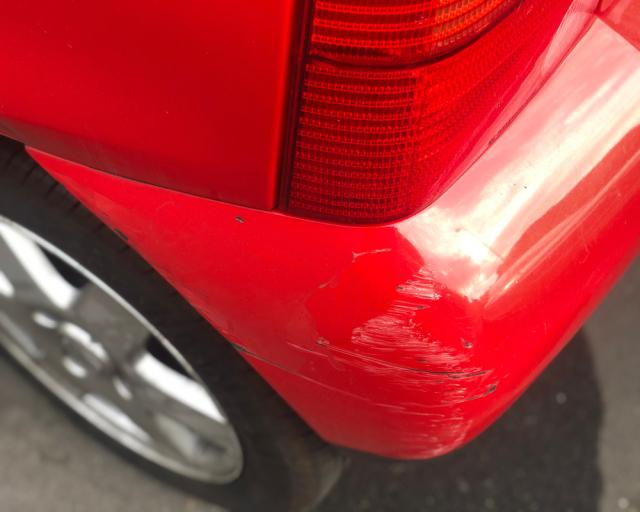scratch: (232, 259, 500, 457)
